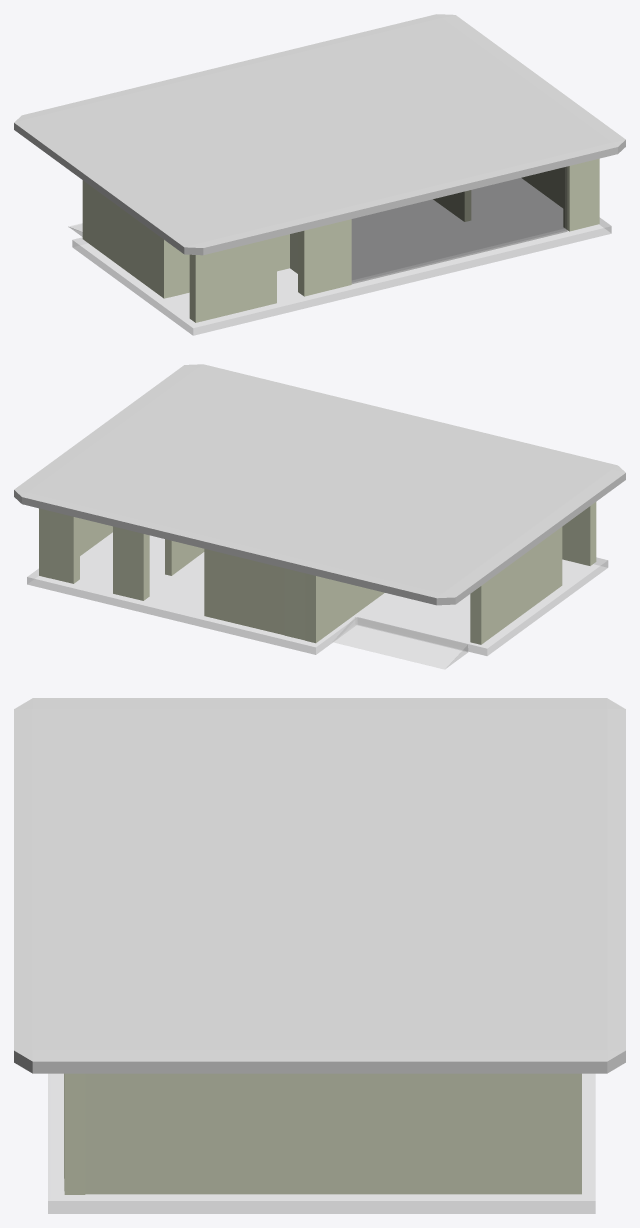
The model's file is building15.glb.
The picture shows the model from 3 angles, top to bottom: view 1: azimuth 30°, elevation 25°; view 2: azimuth 150°, elevation 25°; view 3: azimuth 270°, elevation 25°; orthographic projection. The views are drawn at different scales.
Visible parts, largest first — view 1: roof, floor, Walls, backyard-glass; view 2: roof, Walls, floor, Cube; view 3: roof, Walls, floor.
Boxes of the visible parts, x1,y1,x2,y2 form: roof: [14, 14, 625, 255]; floor: [72, 178, 611, 335]; Walls: [82, 158, 599, 322]; backyard-glass: [352, 167, 567, 283]; roof: [14, 364, 625, 605]; Walls: [39, 502, 596, 644]; floor: [27, 532, 608, 655]; Cube: [333, 617, 468, 669]; roof: [14, 698, 625, 1073]; Walls: [64, 1073, 581, 1194]; floor: [48, 1073, 595, 1213].
Size of the model in its own units: 15.42 by 3.22 by 10.97.
Materials: 4 (1 with a texture image).
